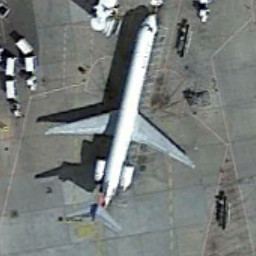Airplane: (33, 8, 199, 240)
